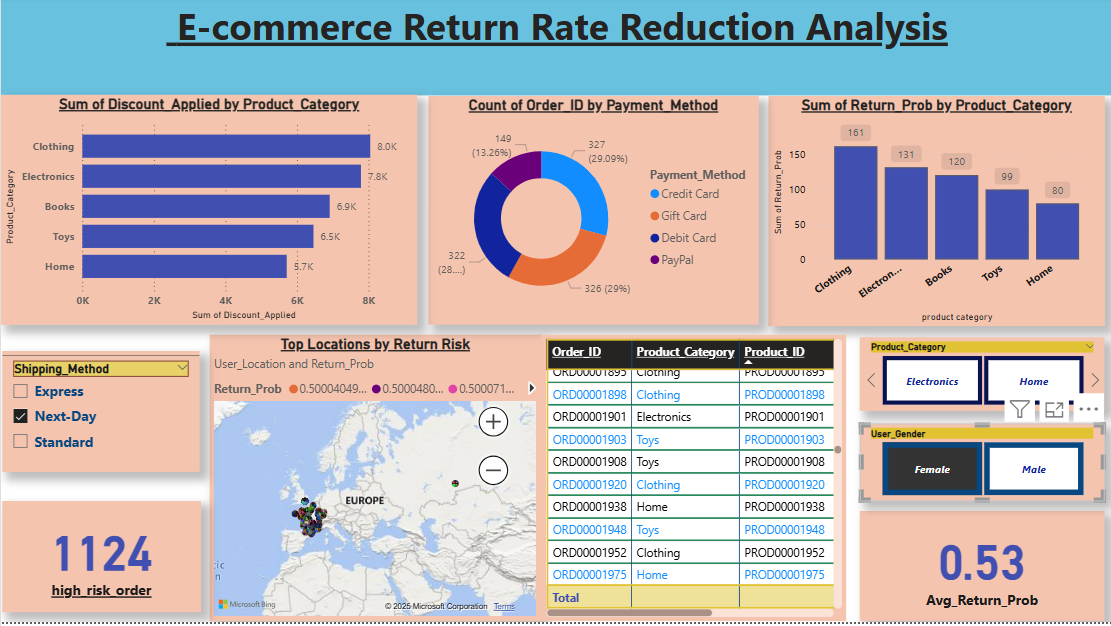

The dashboard page shown, as its layout file describes it:
{"tool":"powerbi","page":{"name":"Page 1","canvas":[1280,720],"ordinal":0},"visuals":[{"type":"columnChart","fields":{"Y":["Sum(high_risk_products.Return_Prob)"],"Category":["high_risk_products.Product_Category"]},"box":[883.3,115.1,387,265],"z":0},{"type":"textbox","box":[0,0,1280,114.3],"z":1000},{"type":"map","title":"Top Locations by Return Risk","fields":{"Category":["high_risk_products.User_Location"],"Series":["high_risk_products.Return_Prob"]},"box":[240.2,389.8,381.2,329.4],"z":2000},{"type":"donutChart","fields":{"Category":["high_risk_products.Payment_Method"],"Y":["CountNonNull(high_risk_products.Order_ID)"]},"box":[492,115.1,379.8,263.3],"z":3000},{"type":"slicer","fields":{"Values":["high_risk_products.User_Gender"]},"box":[988.3,492,282,89.2],"z":4000},{"type":"slicer","fields":{"Values":["high_risk_products.Product_Category"]},"box":[988.3,392.7,282,84.9],"z":5000},{"type":"slicer","fields":{"Values":["high_risk_products.Shipping_Method"]},"box":[1.4,408.5,227.3,139.5],"z":6000},{"type":"tableEx","fields":{"Values":["high_risk_products.Order_ID","high_risk_products.Product_Category","high_risk_products.Product_ID","Sum(high_risk_products.Return_Prob)","high_risk_products.User_Location"]},"box":[621.4,389.8,351,329.4],"z":7000},{"type":"card","fields":{"Values":["high_risk_products.high_risk_order"]},"box":[1.4,581.2,228.7,128],"z":8000},{"type":"card","fields":{"Values":["high_risk_products.Avg_Return_Prob"]},"box":[988.3,592.7,282,126.6],"z":9000},{"type":"barChart","fields":{"Y":["Sum(high_risk_products.Discount_Applied)"],"Category":["high_risk_products.Product_Category"]},"box":[0,113.6,479,264.7],"z":9001}]}

Visuals, with their boxes in screenshot pixels (x1, y1, x2, y2), scaled from the page's 1280x720 canvas onto the 1111x626 screenshot:
columnChart - Sum(high_risk_products.Return_Prob) x high_risk_products.Product_Category: (left=767, top=100, right=1103, bottom=330)
textbox: (left=0, top=0, right=1110, bottom=99)
"Top Locations by Return Risk" map: (left=208, top=339, right=539, bottom=625)
donutChart - high_risk_products.Payment_Method x CountNonNull(high_risk_products.Order_ID): (left=427, top=100, right=757, bottom=329)
slicer - high_risk_products.User_Gender: (left=858, top=428, right=1103, bottom=505)
slicer - high_risk_products.Product_Category: (left=858, top=341, right=1103, bottom=415)
slicer - high_risk_products.Shipping_Method: (left=1, top=355, right=199, bottom=476)
tableEx - high_risk_products.Order_ID x high_risk_products.Product_Category: (left=539, top=339, right=844, bottom=625)
card - high_risk_products.high_risk_order: (left=1, top=505, right=200, bottom=617)
card - high_risk_products.Avg_Return_Prob: (left=858, top=515, right=1103, bottom=625)
barChart - Sum(high_risk_products.Discount_Applied) x high_risk_products.Product_Category: (left=0, top=99, right=416, bottom=329)
